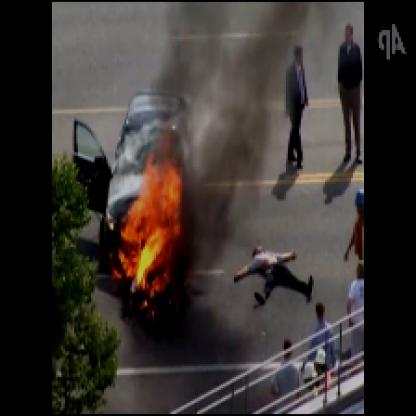Fire: (110, 121, 193, 308)
Smoke: (173, 2, 299, 267)
